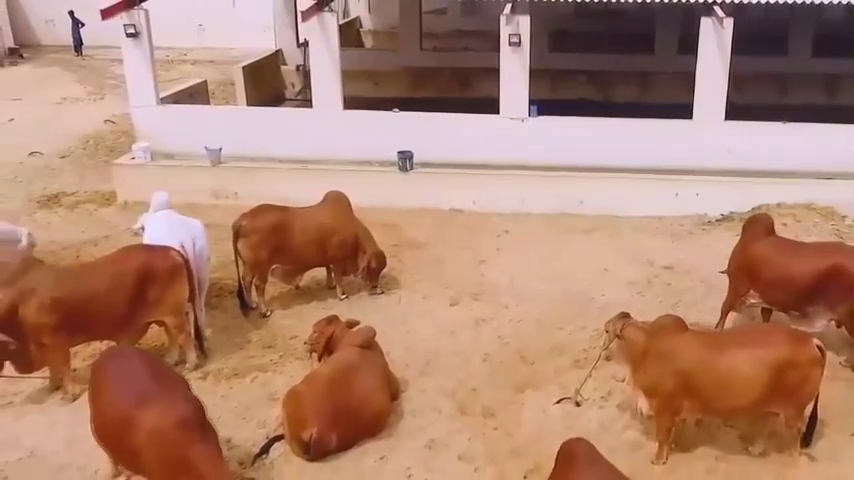bo: (587, 306, 821, 456), (5, 238, 200, 381), (692, 204, 854, 347), (268, 315, 424, 462), (89, 336, 251, 474), (227, 184, 390, 319), (128, 193, 216, 337)
